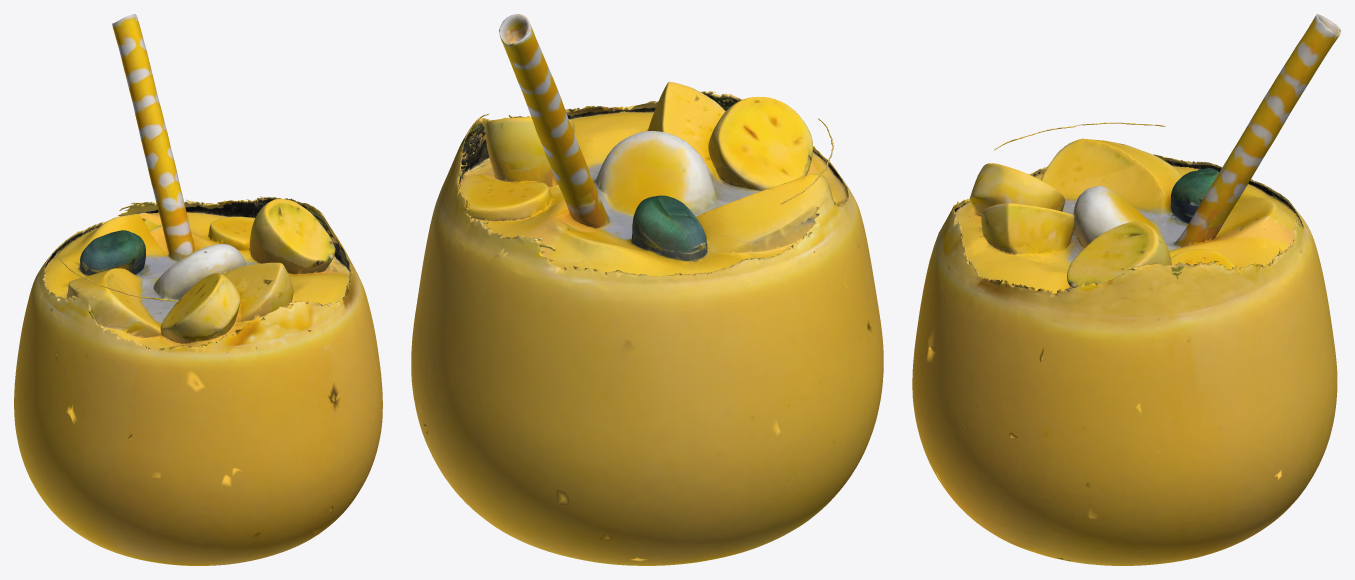
File: Pineapple_Smoothie.glb
3 views of the same model, side by side, from view 1: azimuth 30°, elevation 25°; view 2: azimuth 150°, elevation 25°; view 3: azimuth 270°, elevation 25° (orthographic). The views are drawn at different scales.
Bounding box in the file's own units: 1.49 × 2 × 1.51.
Materials: 1 (1 with a texture image).
